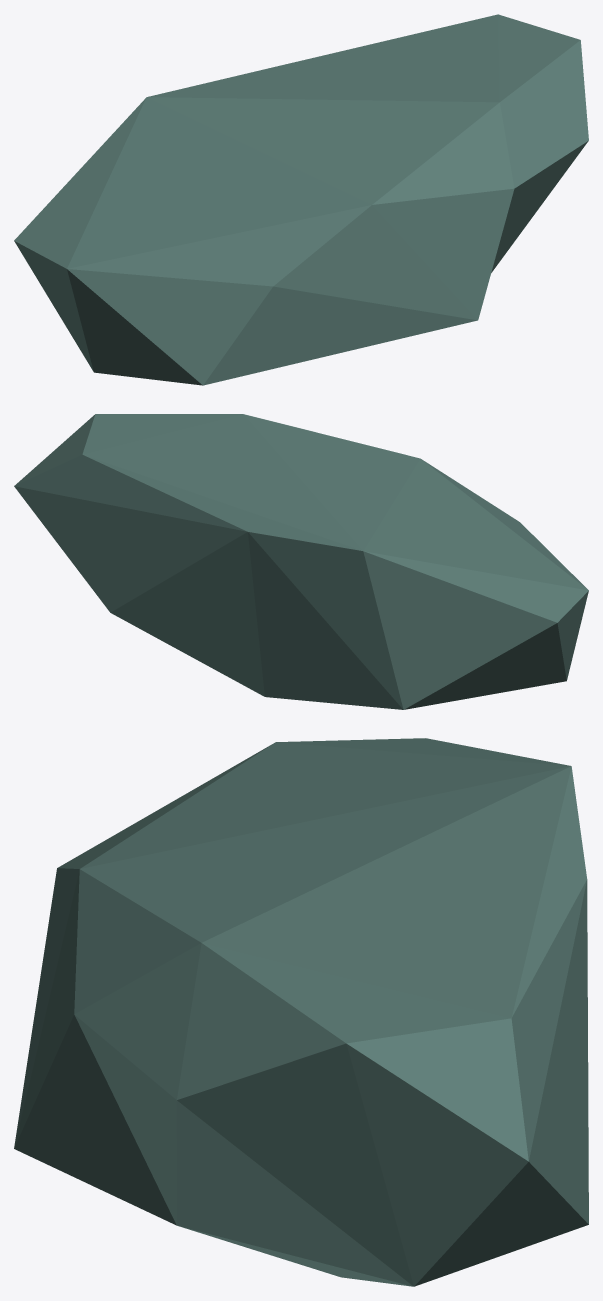
The picture shows the model from 3 angles, top to bottom: view 1: azimuth 30°, elevation 25°; view 2: azimuth 150°, elevation 25°; view 3: azimuth 270°, elevation 25°; orthographic projection. The views are drawn at different scales.
Parts seen in each view (by area): view 1: 石头4; view 2: 石头4; view 3: 石头4.
Boxes of the visible parts, x1,y1,x2,y2 form: 石头4: (14,14,588,385); 石头4: (14,414,588,709); 石头4: (14,738,588,1286).
Bounding box in the file's own units: 43.53 × 14.91 × 21.97.
